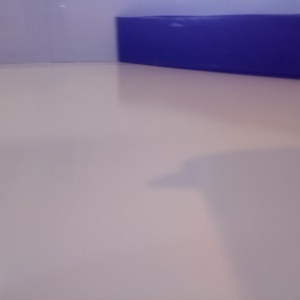zone: (1, 13, 209, 64)
